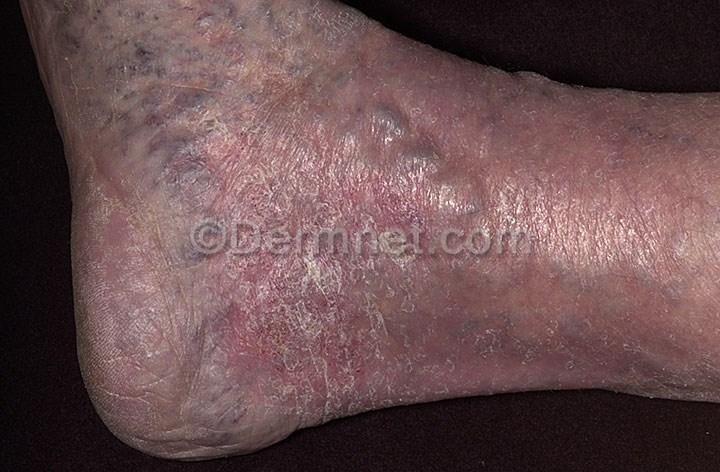Eczema: (122, 17, 316, 213), (409, 264, 664, 412), (538, 77, 720, 259), (331, 69, 522, 214), (250, 260, 409, 396), (100, 259, 251, 393), (657, 263, 720, 398)
